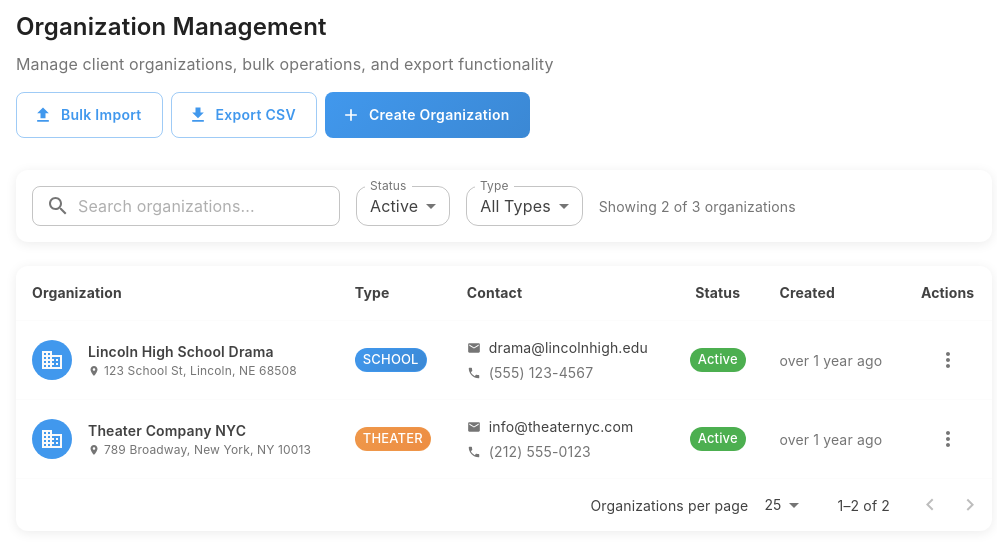
Scenario: OrganizationManagement › Search and Filtering › filters organizations by search term
Expected: the heading "Lincoln High School Drama" is shown, [88, 341, 297, 363]
Type "Lincoln" into the field with placeholder "Search organizations...". click: [209, 206]
box: [78, 186, 340, 226]
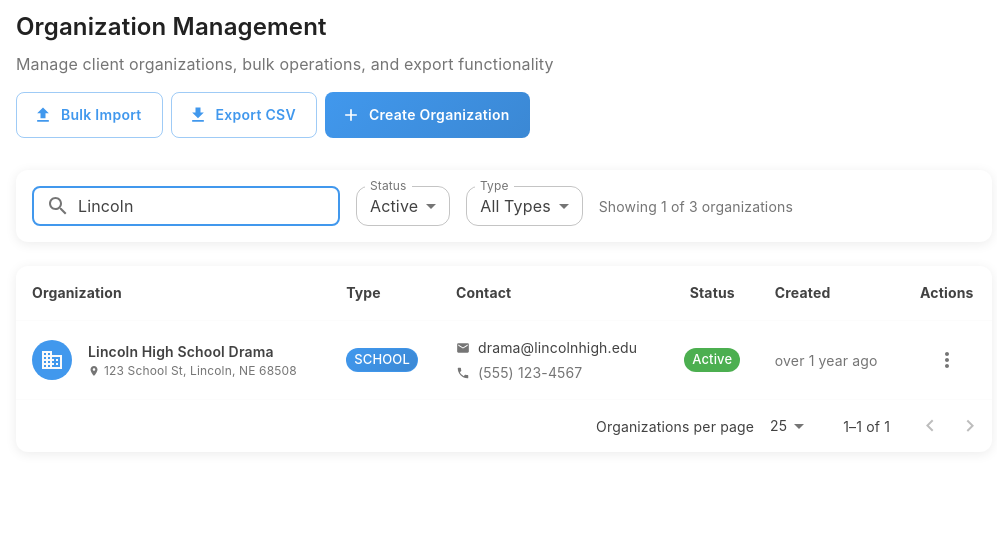
Expected: the heading "Lincoln High School Drama" is shown, [88, 341, 297, 363]
Now the heading "Theater Company NYC" is gone
